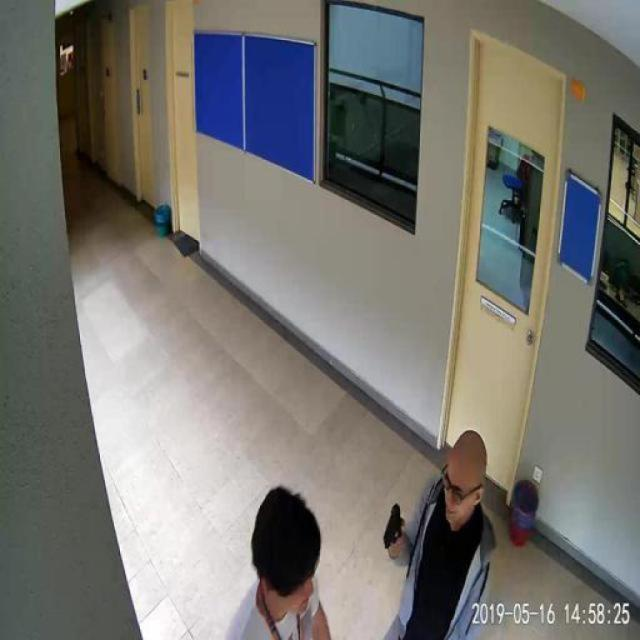pistol: (382, 501, 402, 549)
